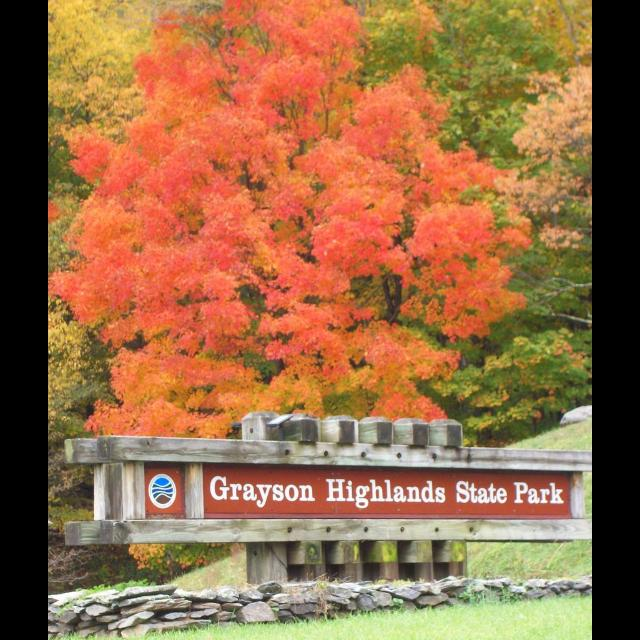Flower: (49, 2, 592, 570)
